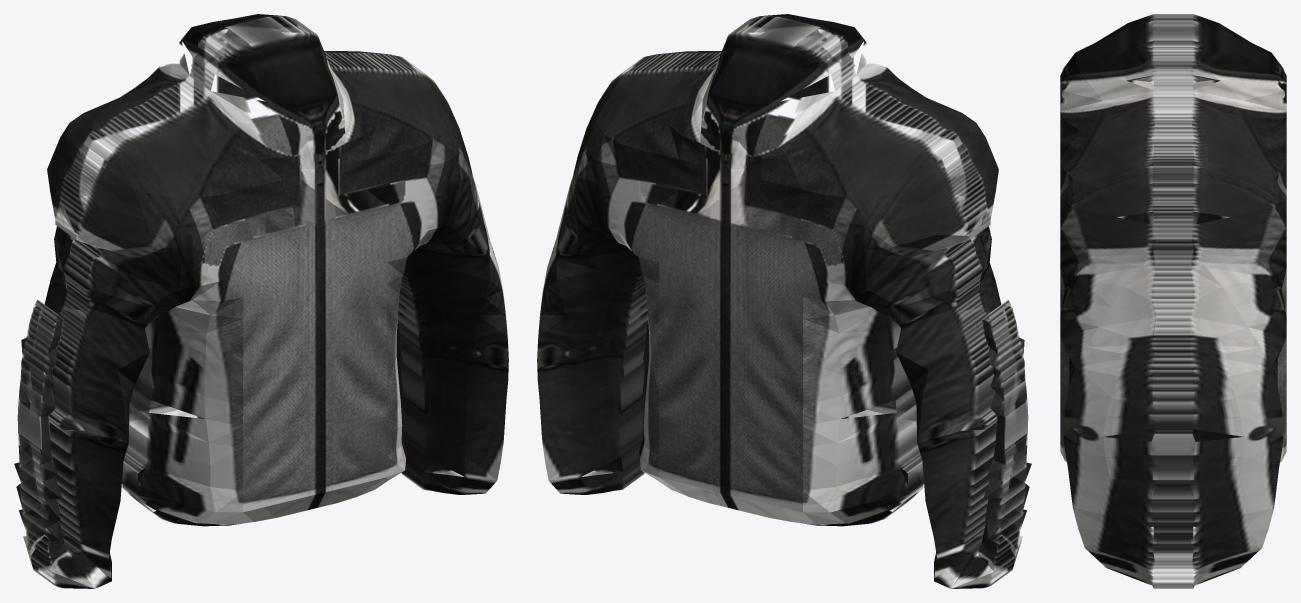
The model's file is bell-vector-textile-jacket-008.glb.
3 views of the same model, side by side, from view 1: azimuth 30°, elevation 25°; view 2: azimuth 150°, elevation 25°; view 3: azimuth 270°, elevation 25° (orthographic). The views are drawn at different scales.
Parts seen in each view (by area): view 1: world; view 2: world; view 3: world.
Part boxes in pixels (<box>): world: <box>14,14,508,588</box>; world: <box>537,14,1031,588</box>; world: <box>1060,14,1286,588</box>.
Size of the model in its own units: 0.9598 by 1 by 0.44.
1 material, 1 textured.
